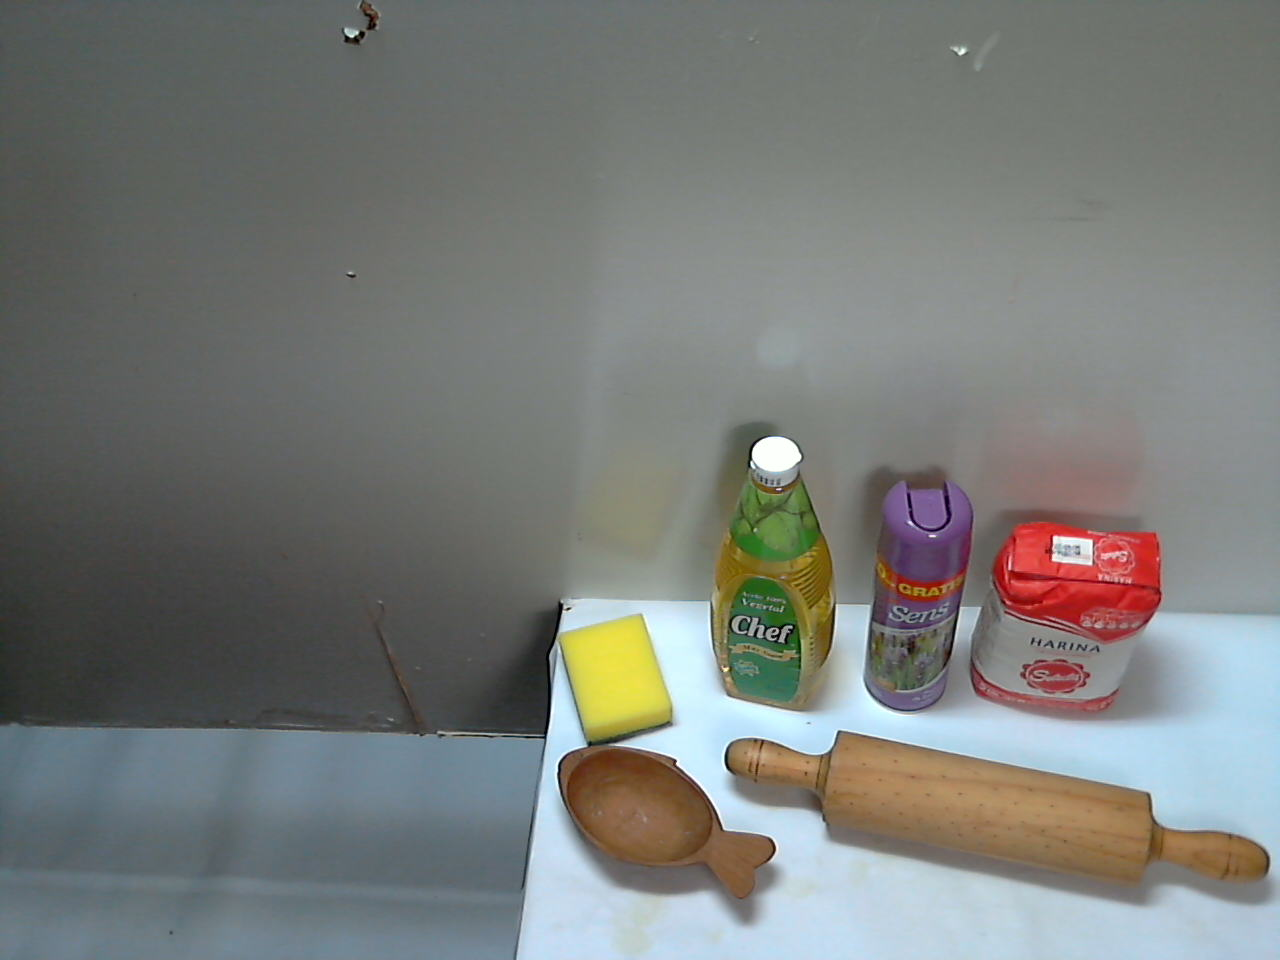coca: (555, 569, 648, 754)
durazno: (719, 616, 863, 770)
esponja: (546, 775, 701, 904)
estuche: (757, 789, 1013, 957)
leche: (869, 560, 1044, 786)
mostaza: (1039, 709, 1160, 879)
